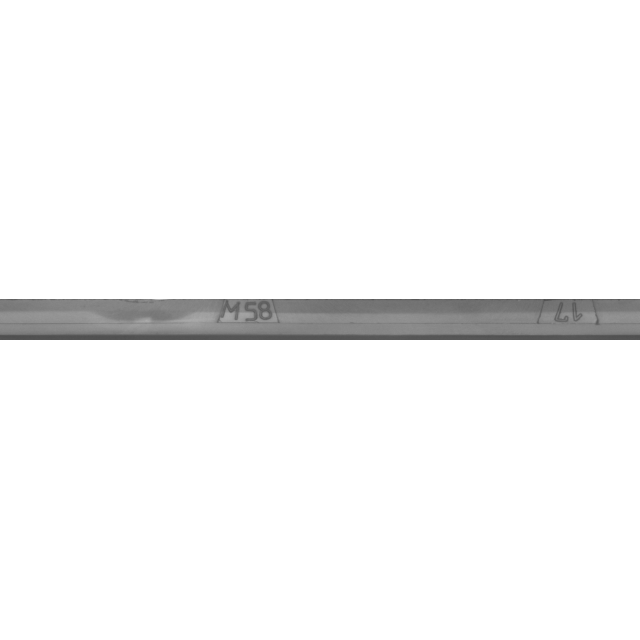mohao: (148, 270, 348, 370)
xuehao: (472, 270, 640, 370)
